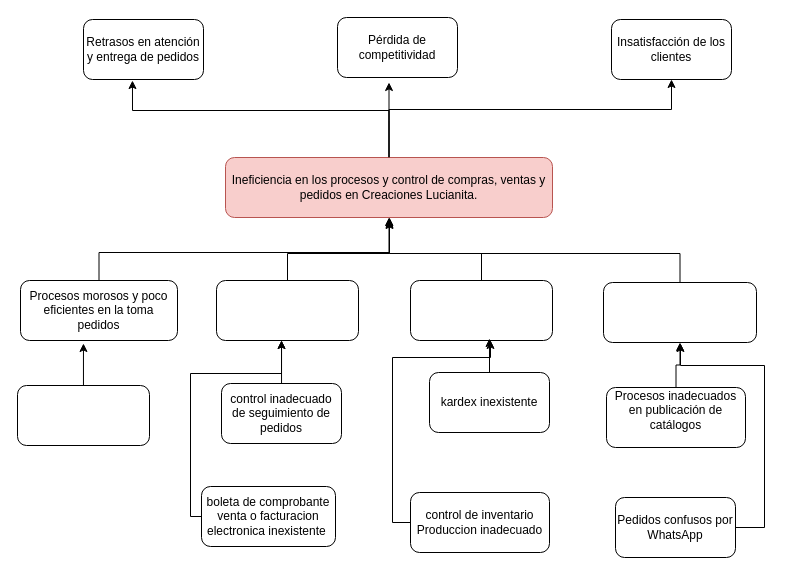
The diagram is 790 pixels wide and 575 high, and some of its shapes have lost their labels. The shapes that lost their labels are listed below. From the top down, each one's centre as x and y in pixels, then its label:
At point 287,310: "procesos inadecuados en la entrega de pedidos".
At point 481,310: "Control ineficiente de Compra de Insumos".
At point 679,312: "Procesos ineficientes de servicio a clientes".
At point 83,415: "Pedidos manuales en papel o en paquete ofimático como ser word y excel".
